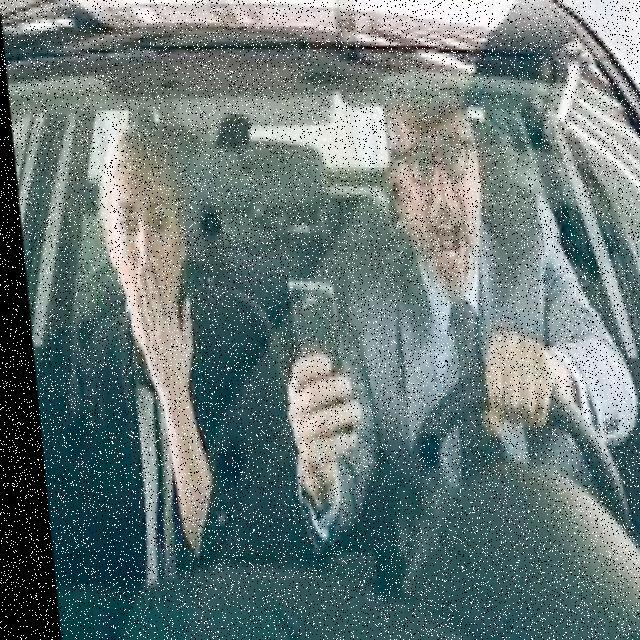noSeatbelt: (337, 196, 554, 430)
